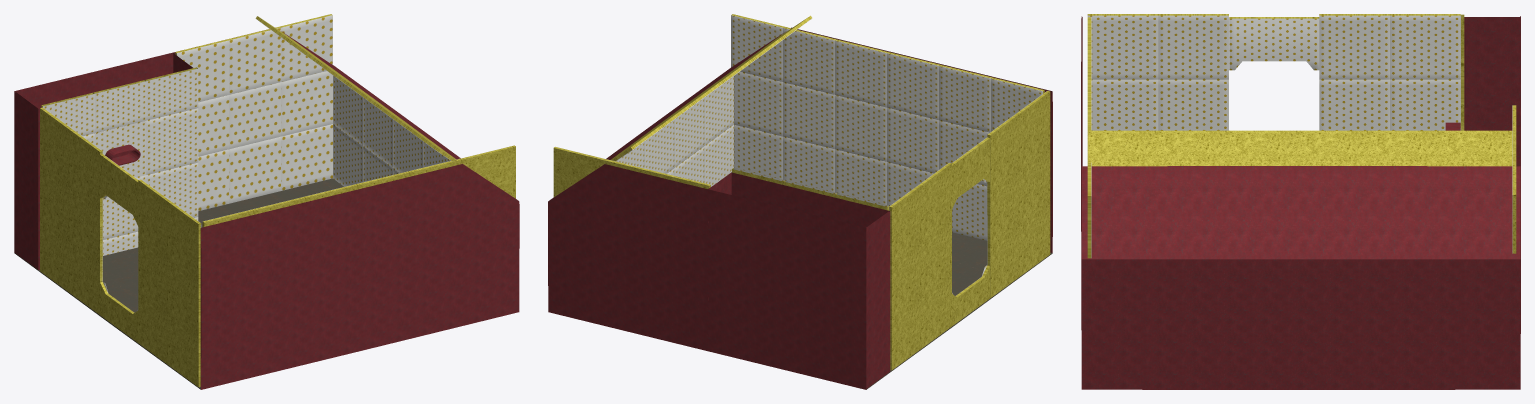
The model's file is Insulation.fbx.
3 renders of one model, left to right at view 1: azimuth 30°, elevation 25°; view 2: azimuth 150°, elevation 25°; view 3: azimuth 270°, elevation 25°, orthographic. The views are drawn at different scales.
Visible parts, largest first — view 1: Cube.016, Cube, Cube.009; view 2: Cube.016, Cube; view 3: Cube, Cube.016.
Part boxes in pixels (left/top/right/bottom): Cube.016: left=40, top=14, right=515, bottom=387; Cube: left=14, top=31, right=519, bottom=389; Cube.009: left=94, top=121, right=146, bottom=177; Cube.016: left=553, top=14, right=1050, bottom=370; Cube: left=548, top=27, right=1052, bottom=389; Cube: left=1081, top=16, right=1520, bottom=389; Cube.016: left=1087, top=14, right=1516, bottom=258.
Size of the model in its own units: 1226 by 670 by 1245.
Materials: 5 (4 with a texture image).
